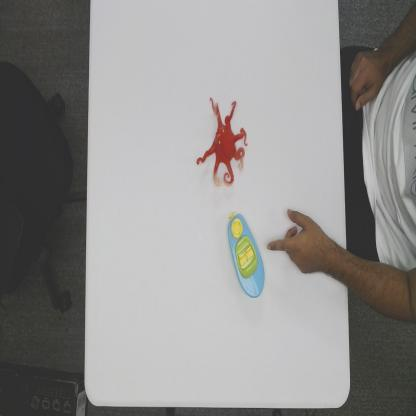Boat: (226, 209, 266, 298)
Hand: (266, 207, 338, 277)
Octopus: (196, 95, 248, 190)
